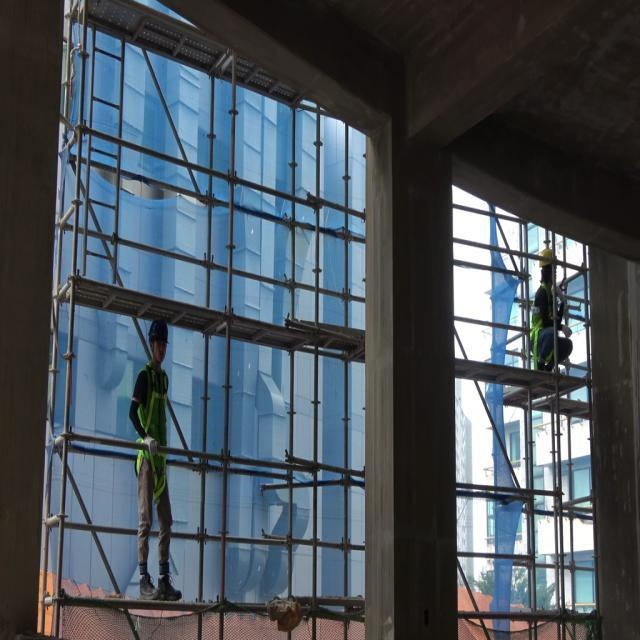Arnes_seguridad: (136, 360, 168, 482), (530, 284, 555, 362)
